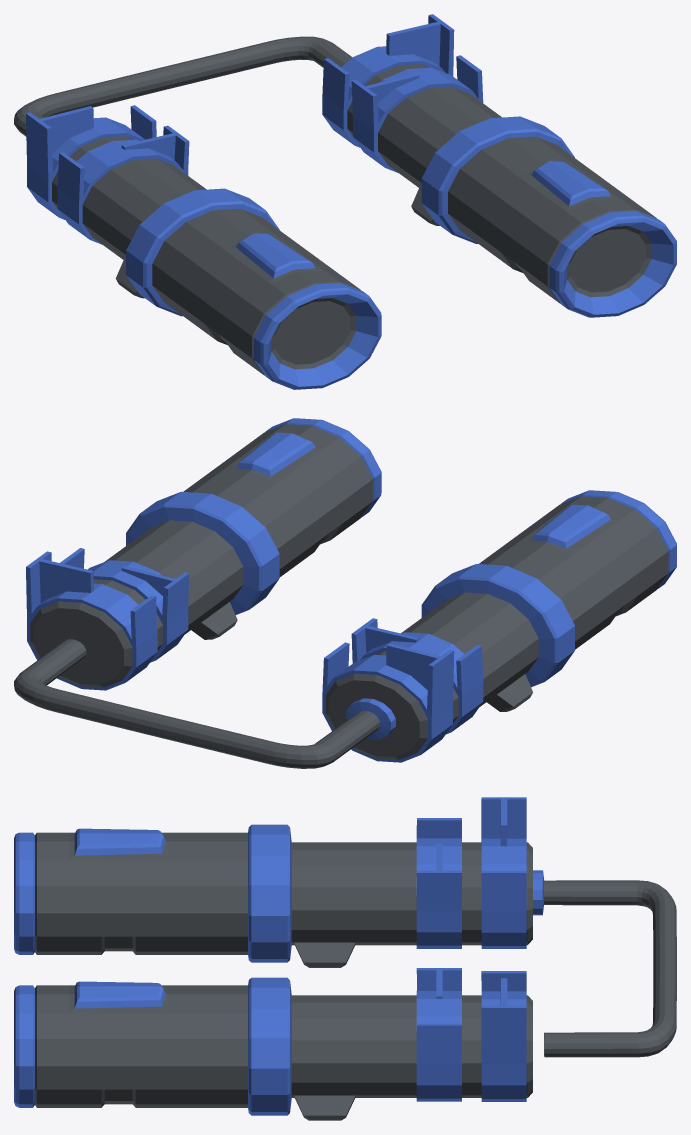
The model's file is Personal_Vehicle_04_Engine_Blue.fbx.
3 views of the same model, one above another, from view 1: azimuth 30°, elevation 25°; view 2: azimuth 150°, elevation 25°; view 3: azimuth 270°, elevation 25° (orthographic). The views are drawn at different scales.
Parts seen in each view (by area): view 1: Personal_Vehicle_04_Engine_Blue; view 2: Personal_Vehicle_04_Engine_Blue; view 3: Personal_Vehicle_04_Engine_Blue.
Part boxes in pixels (left/top/right/bottom): Personal_Vehicle_04_Engine_Blue: left=14, top=14, right=676, bottom=389; Personal_Vehicle_04_Engine_Blue: left=14, top=418, right=676, bottom=768; Personal_Vehicle_04_Engine_Blue: left=14, top=797, right=676, bottom=1120.
Size of the model in its own units: 204 by 54.3 by 256.
2 materials, 2 textured.
